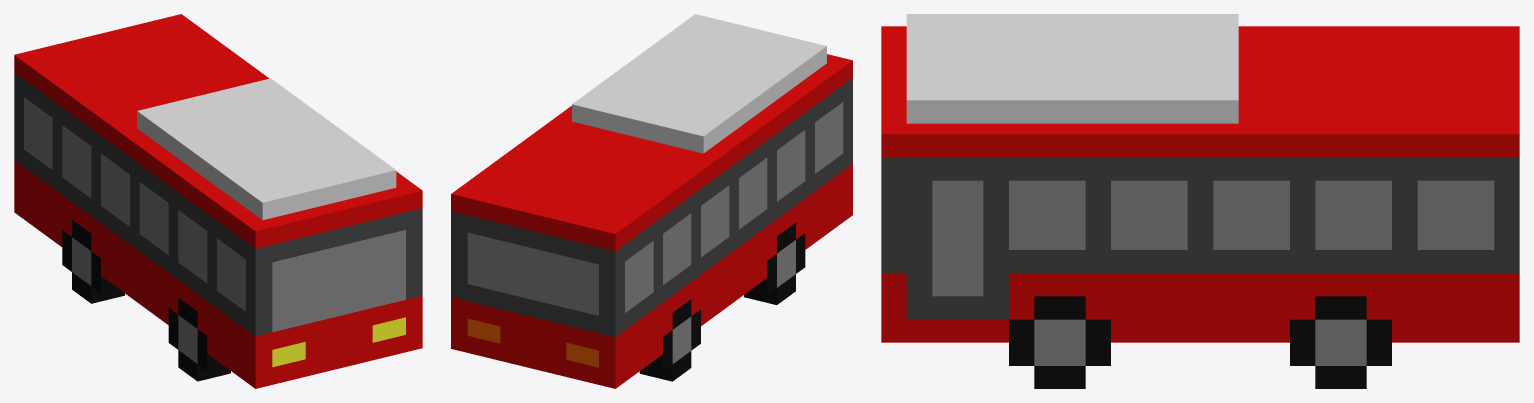
The model's file is Bus_red.fbx.
3 views of the same model, side by side, from view 1: azimuth 30°, elevation 25°; view 2: azimuth 150°, elevation 25°; view 3: azimuth 270°, elevation 25° (orthographic). The views are drawn at different scales.
Visible parts, largest first — view 1: 立方体.2049, 立方体.2299, 立方体.2053, 立方体.2302, 立方体.049, 立方体.1049, 立方体.1549, 立方体.2056, 立方体.549, 立方体.1299, 立方体.1799, 立方体.2306 (+30 smaller); view 2: 立方体.2395, 立方体.2289, 立方体.2398, 立方体.2292, 立方体.1289, 立方体.1539, 立方体.1039, 立方体.289, 立方体.1789, 立方体.2039, 立方体.2396, 立方体.2291 (+16 smaller); view 3: 立方体.2306, 立方体.2322, 立方体.2378, 立方体.2394, 立方体.2068, 立方体.2088, 立方体.2158, 立方体.2178, 立方体.2198, 立方体.2268, 立方体.2288, 立方体.2058 (+238 smaller).
Part boxes in pixels (<box>): 立方体.2049: <box>246,220,272,248</box>; 立方体.2299: <box>253,191,279,220</box>; 立方体.2053: <box>313,204,339,232</box>; 立方体.2302: <box>303,179,329,207</box>; 立方体.049: <box>246,365,272,388</box>; 立方体.1049: <box>246,295,272,318</box>; 立方体.1549: <box>246,260,272,283</box>; 立方体.2056: <box>363,192,389,220</box>; 立方体.549: <box>246,330,272,353</box>; 立方体.1299: <box>246,277,272,301</box>; 立方体.1799: <box>246,242,272,266</box>; 立方体.2306: <box>370,163,396,191</box>; 立方体.2395: <box>687,125,712,153</box>; 立方体.2289: <box>599,223,624,251</box>; 立方体.2398: <box>637,113,663,141</box>; 立方体.2292: <box>549,211,575,238</box>; 立方体.1289: <box>599,296,624,319</box>; 立方体.1539: <box>599,279,624,302</box>; 立方体.1039: <box>599,313,624,337</box>; 立方体.289: <box>599,365,624,388</box>; 立方体.1789: <box>599,262,624,285</box>; 立方体.2039: <box>599,244,624,268</box>; 立方体.2396: <box>670,121,696,149</box>; 立方体.2291: <box>566,215,591,243</box>; 立方体.2306: <box>906,89,932,123</box>; 立方体.2322: <box>957,89,983,123</box>; 立方体.2378: <box>1136,89,1162,123</box>; 立方体.2394: <box>1187,89,1213,123</box>; 立方体.2068: <box>906,123,932,157</box>; 立方体.2088: <box>957,123,983,157</box>; 立方体.2158: <box>1136,123,1162,157</box>; 立方体.2178: <box>1187,123,1213,157</box>; 立方体.2198: <box>1238,123,1264,157</box>; 立方体.2268: <box>1417,123,1443,157</box>; 立方体.2288: <box>1468,123,1494,157</box>; 立方体.2058: <box>881,123,906,157</box>.
Bounding box in the file's own units: 1000 × 1200 × 2500.
